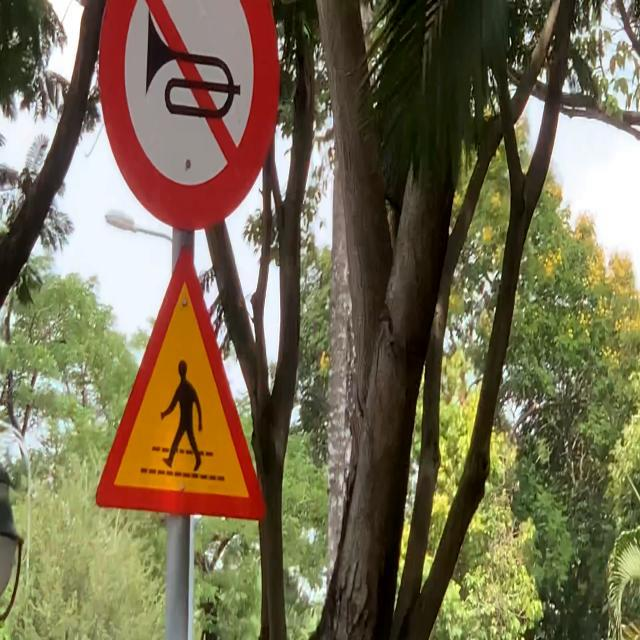Nguoi di bo cat ngang: (90, 238, 270, 526)
